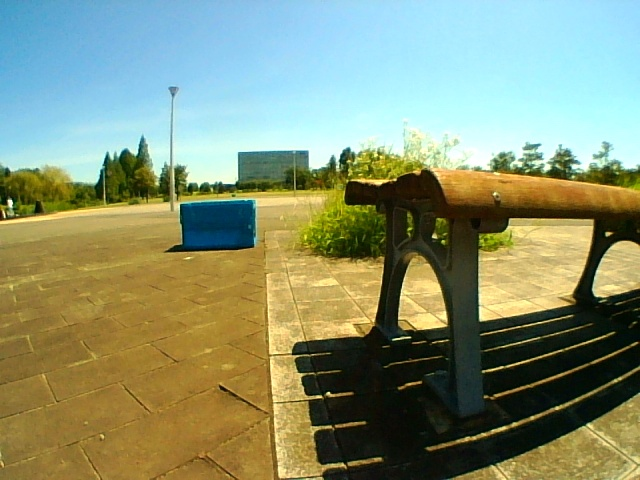blue_box: (184, 202, 256, 247)
